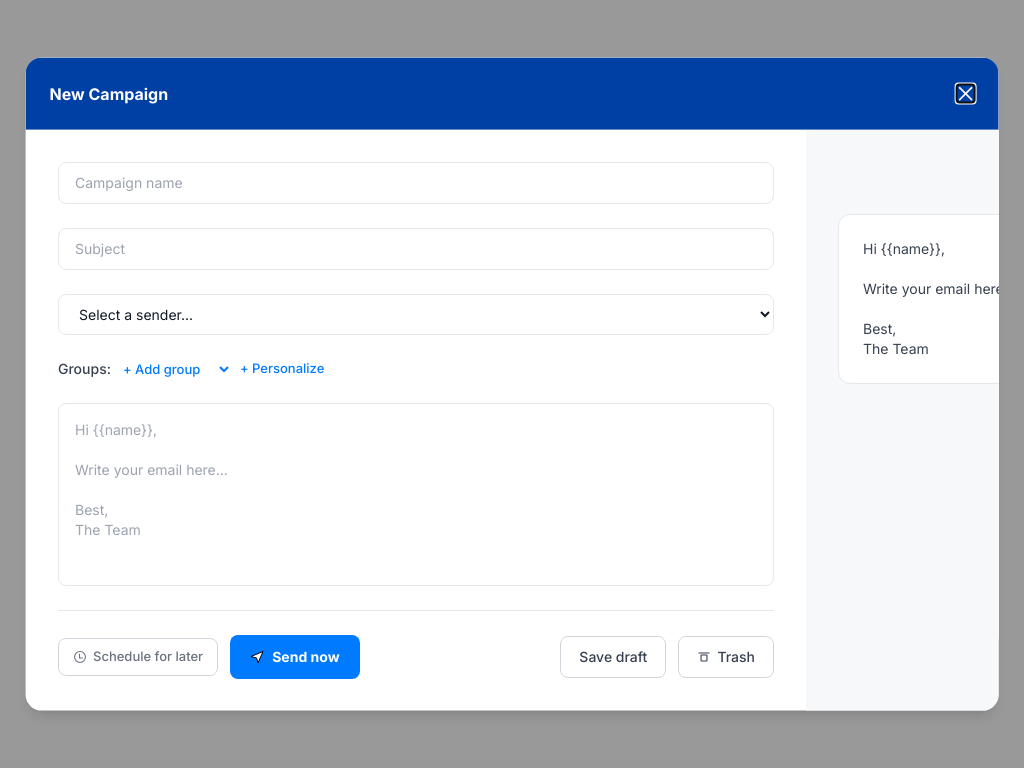
CampaignComposerModal › blocks Schedule for later and shows an error when required fields are incomplete
Type "Incomplete Campaign" into the field labelled "Campaign name".
click(416, 183); type("Incomplete Campaign")  # box [58,162,774,204]
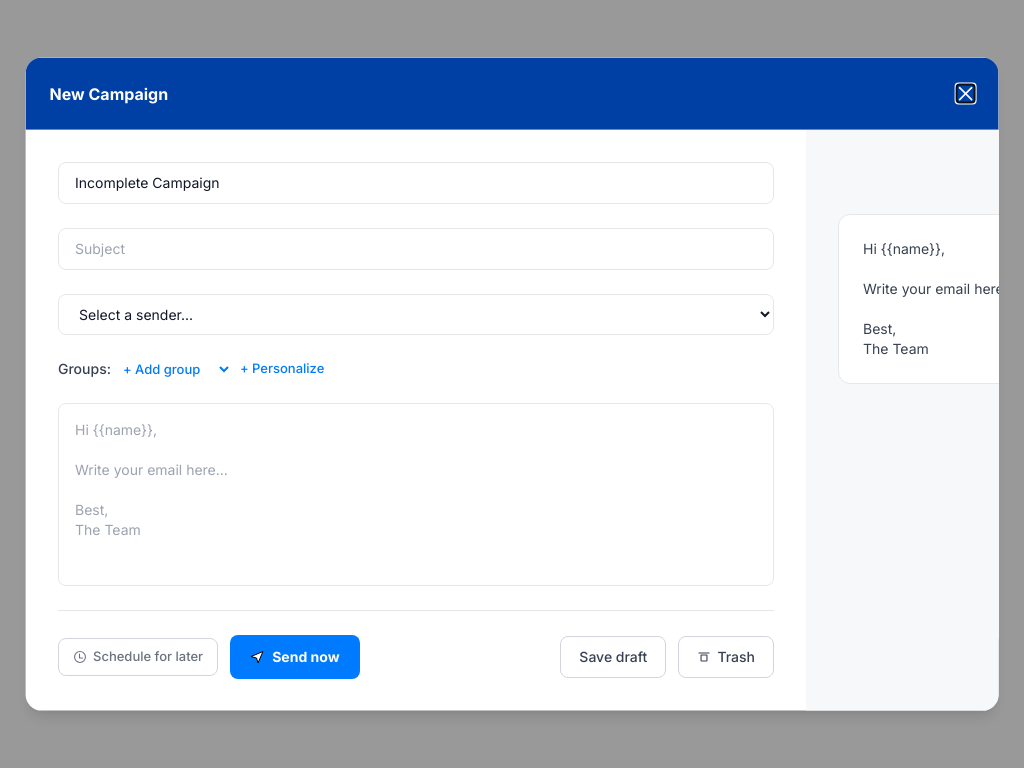
Click the button "Schedule for later".
click(138, 656)  # box [58,638,218,675]
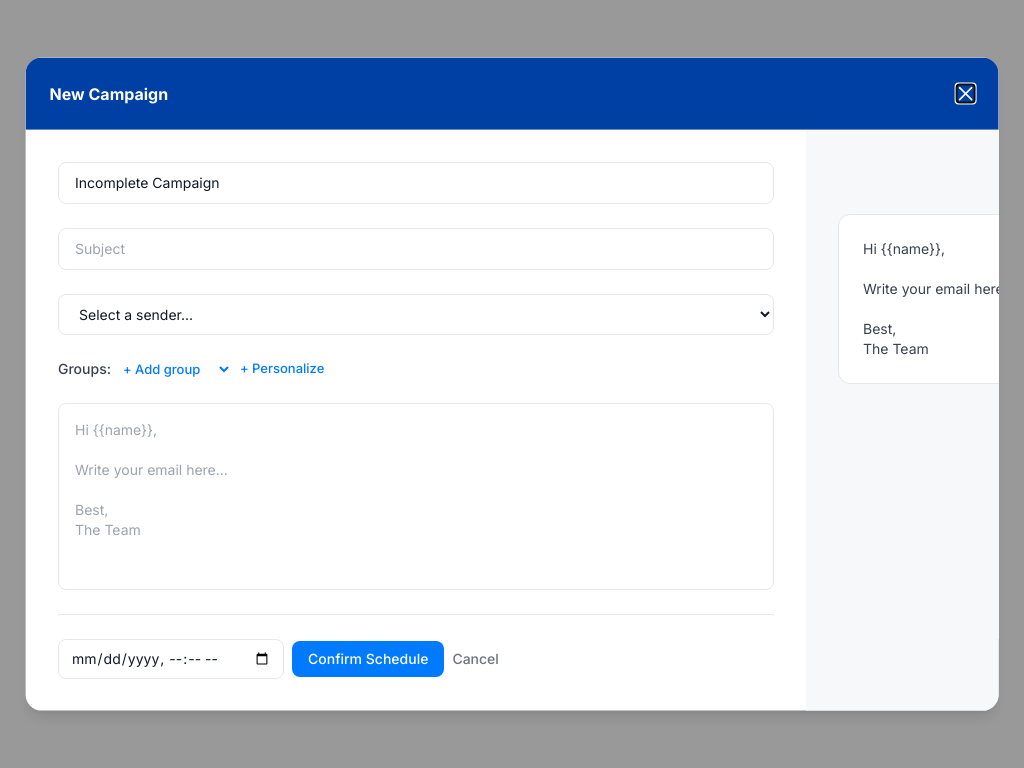
Type "2026-12-25T09:00" into the field named "Scheduled date and time".
click(171, 658); type("2026-12-25T09:00")  # box [58,638,284,678]
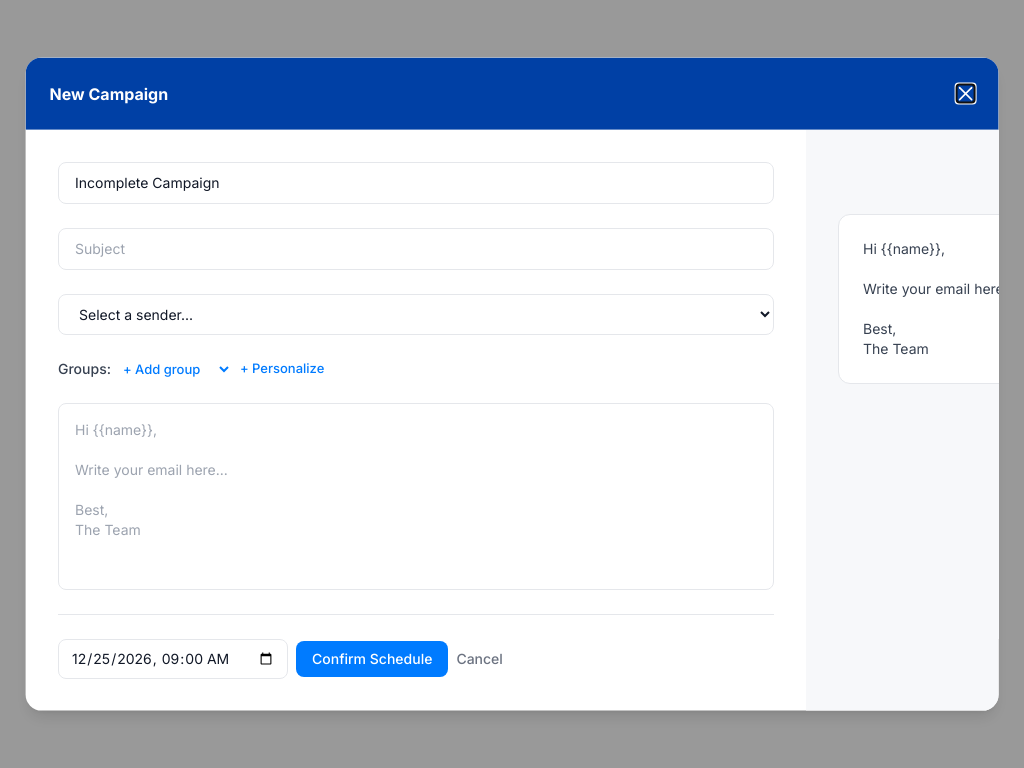
Click the button "Confirm Schedule".
click(372, 658)  # box [296,640,448,676]
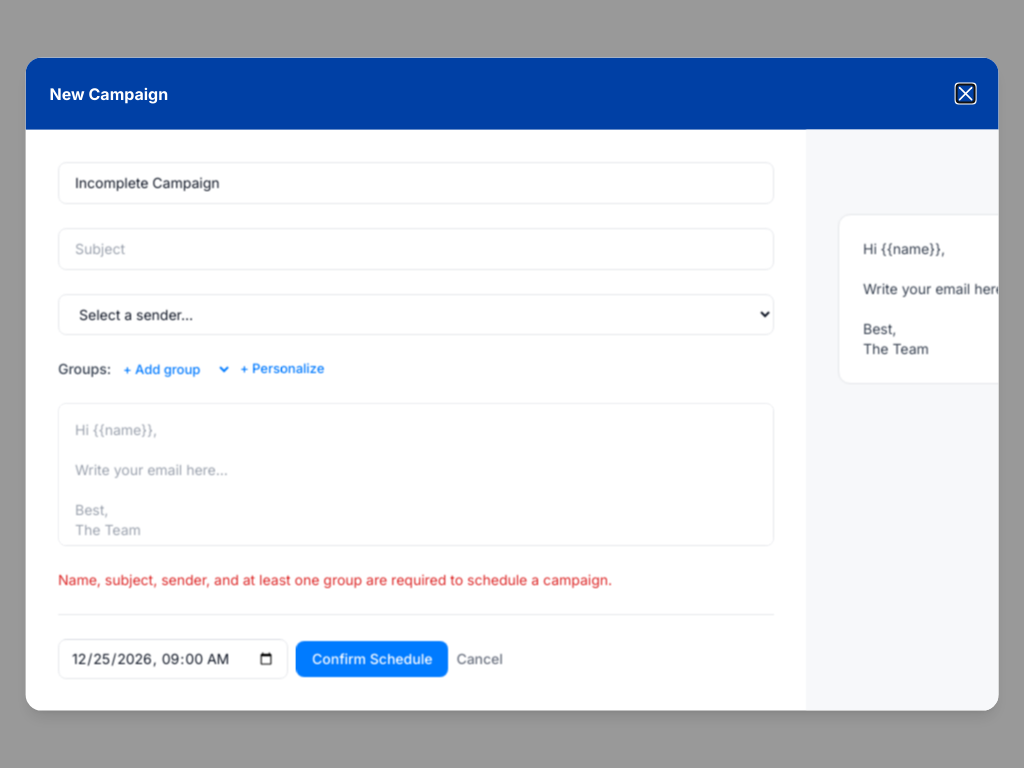
Now the text "Name, subject, sender, and at least one group are required to schedule a campaign." is shown, box [58,570,612,587]
